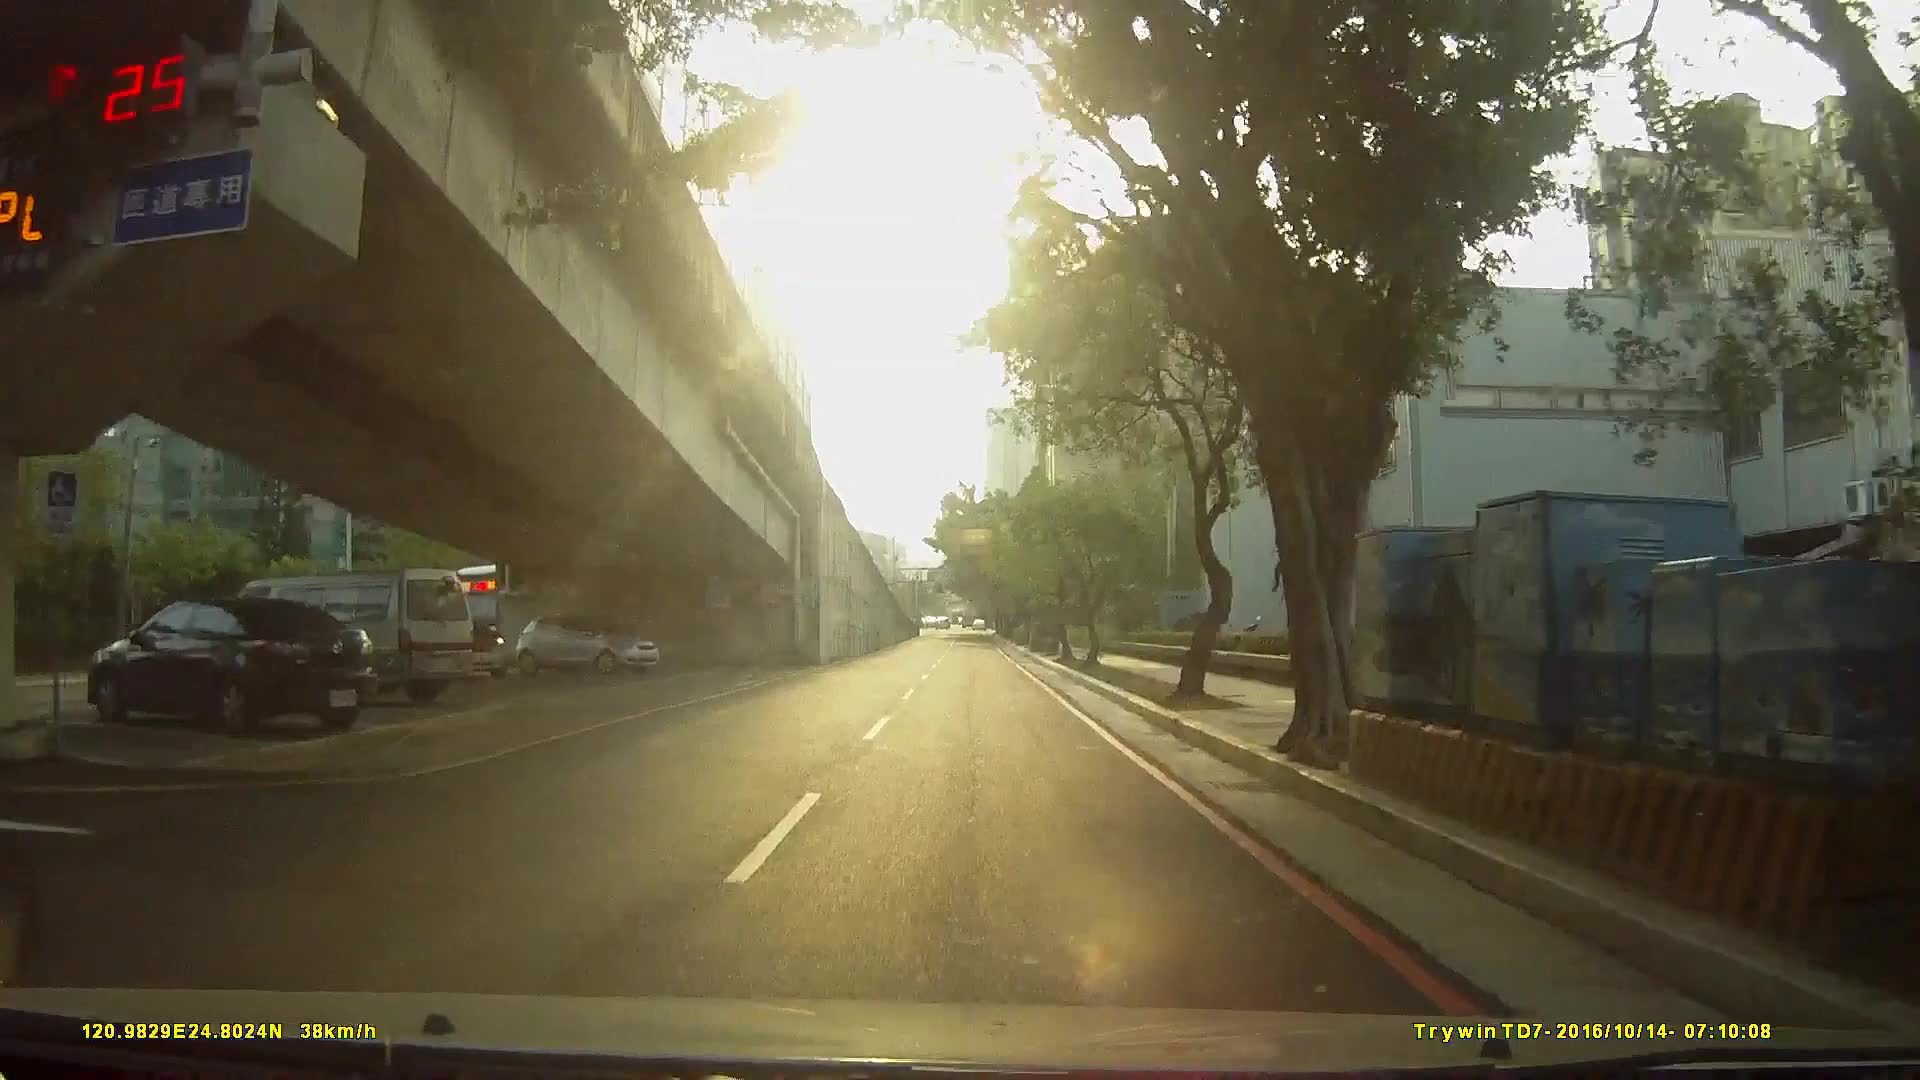vehicle: (69, 583, 378, 738), (202, 571, 464, 709), (508, 616, 658, 683), (415, 620, 506, 688)
